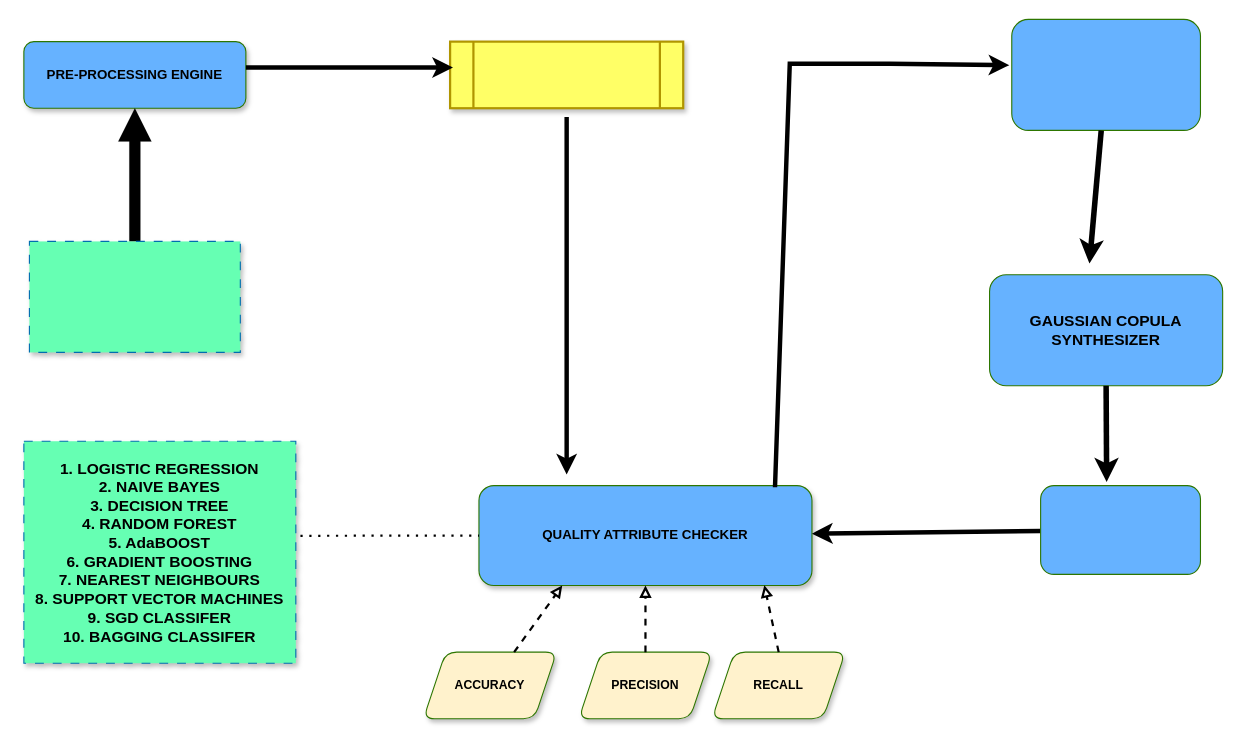
Some shapes in this 1242 by 746 pixel diagram are drawn without their labels. Here are the shapes that lost their labels. From the top down, the centre of each, then its label:
the point at 567,76: PRE-PROCESSED DATA
the point at 1105,74: SYNTHETIC DATA GENERATION
the point at 135,298: 1. DATA SAMPLING 2. DATA CLEANING 3. FEATURE SELECTION 4. LABEL ENCODING
the point at 1120,529: SYNTHETIC DATA
